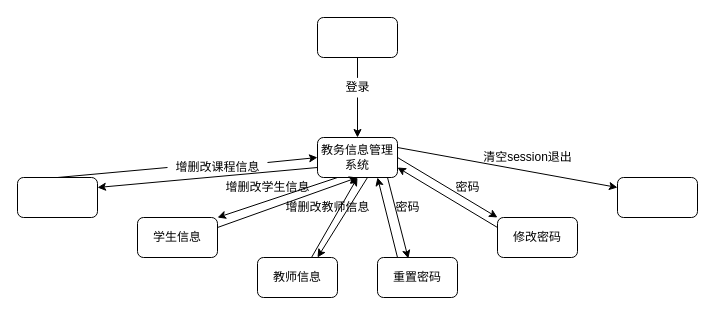
Some shapes in this 715 by 315 pixel diagram are drawn without their labels. Each missing label, with the box of its shape:
admin: (316, 16, 398, 58)
课程信息: (16, 176, 98, 218)
退出系统: (616, 176, 698, 218)
